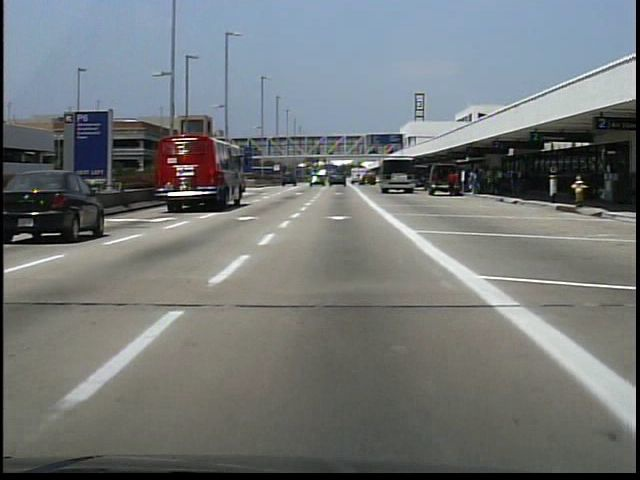person: (447, 168, 461, 202)
